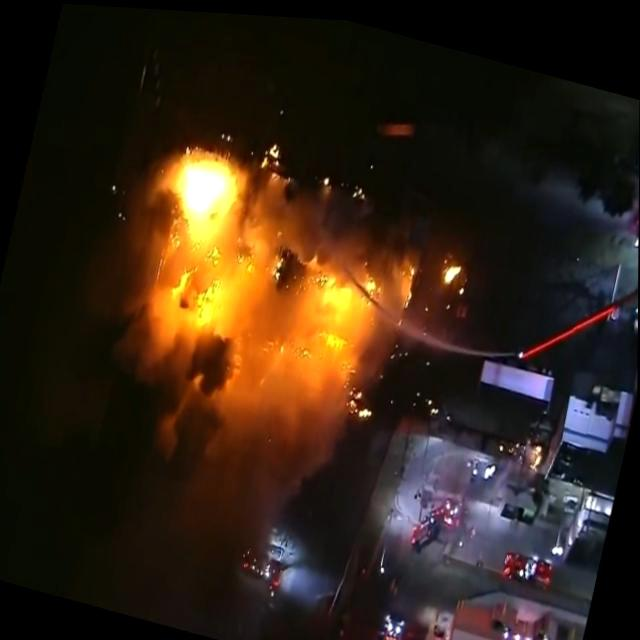fire: (102, 126, 386, 492)
